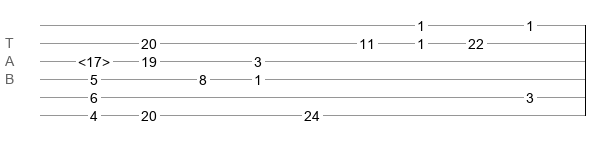1: (254, 72, 262, 82), (417, 36, 425, 46), (417, 18, 425, 28), (526, 18, 534, 28)
11: (359, 36, 375, 46)
19: (141, 54, 157, 64)
20: (141, 108, 157, 118), (141, 36, 157, 46)
22: (468, 36, 484, 46)
24: (304, 108, 320, 118)
3: (254, 54, 262, 64), (526, 90, 534, 100)
4: (90, 108, 98, 118)
5: (90, 72, 98, 82)
6: (90, 90, 98, 100)
8: (199, 72, 207, 82)
harmonic: (78, 54, 110, 64)
